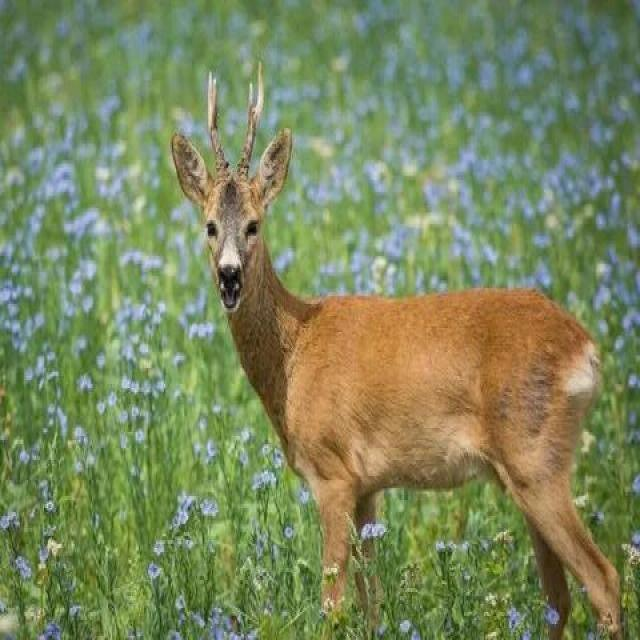deer: (145, 29, 640, 640)
